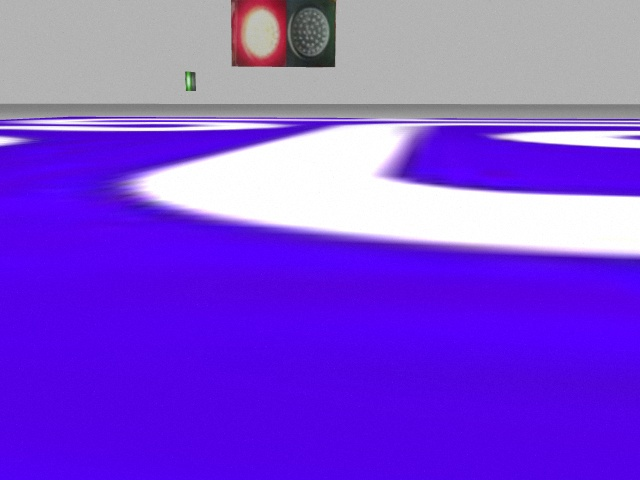red: (231, 1, 289, 67)
